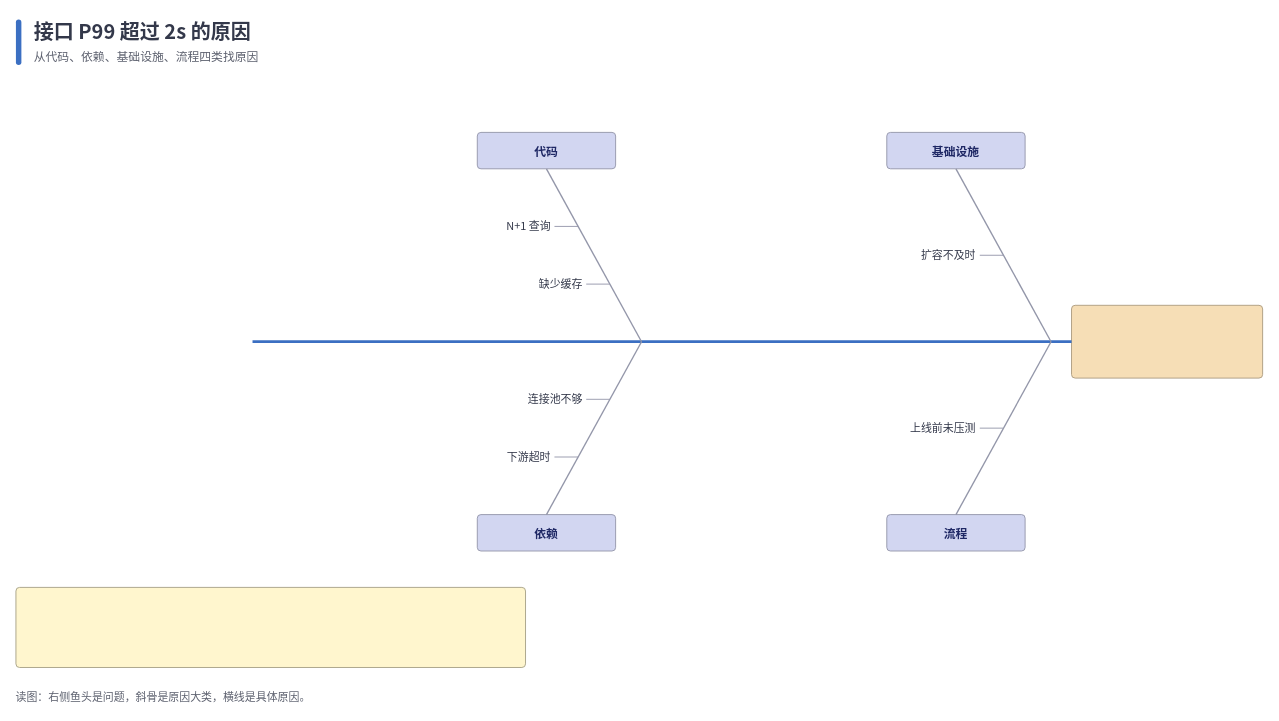
Image size: 1279x721. Some labels were removed from this diagram. Each missing label, with the centre of its shape:
"已验证 N+1 查询：慢查询日志里占 70% 扩容不及时：高峰期 CPU 持续 90%" belongs at [270,626].
"接口 P99 超过 2s" belongs at [1167,341].
